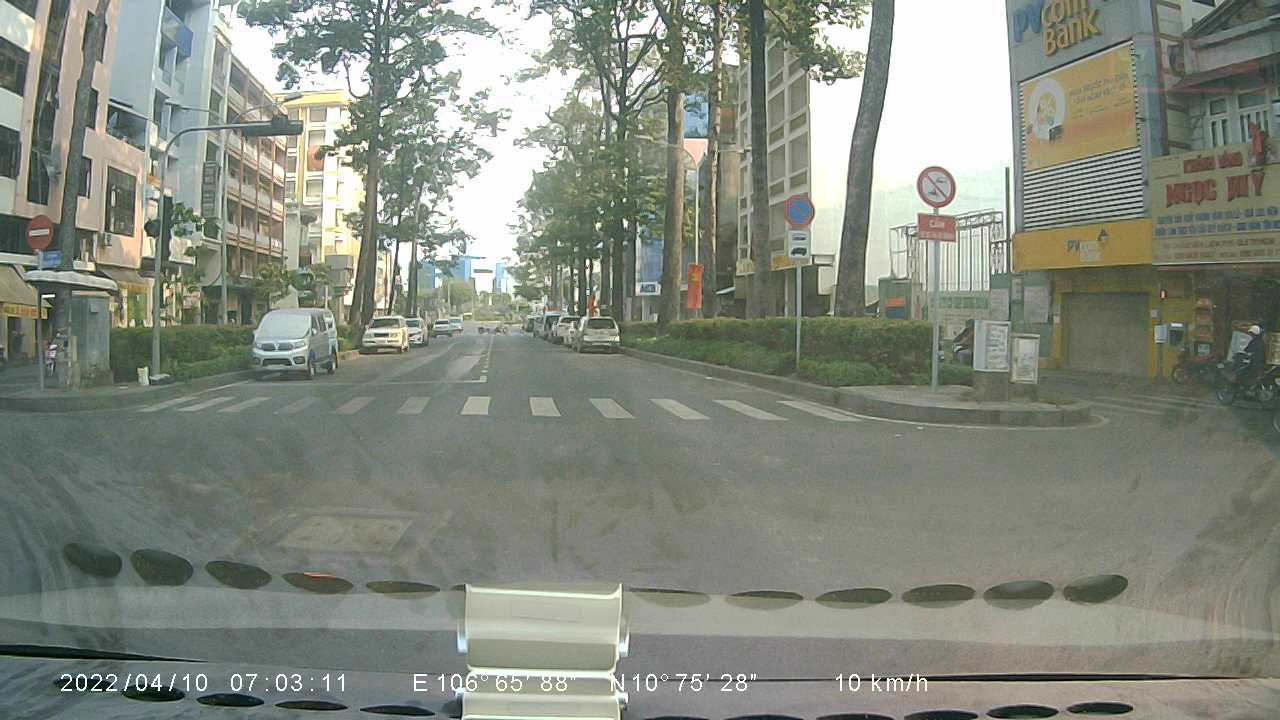Bien khac: (916, 164, 959, 207)
Cam di nguoc chieu: (18, 209, 56, 249)
Cam do xe: (777, 187, 818, 228)
